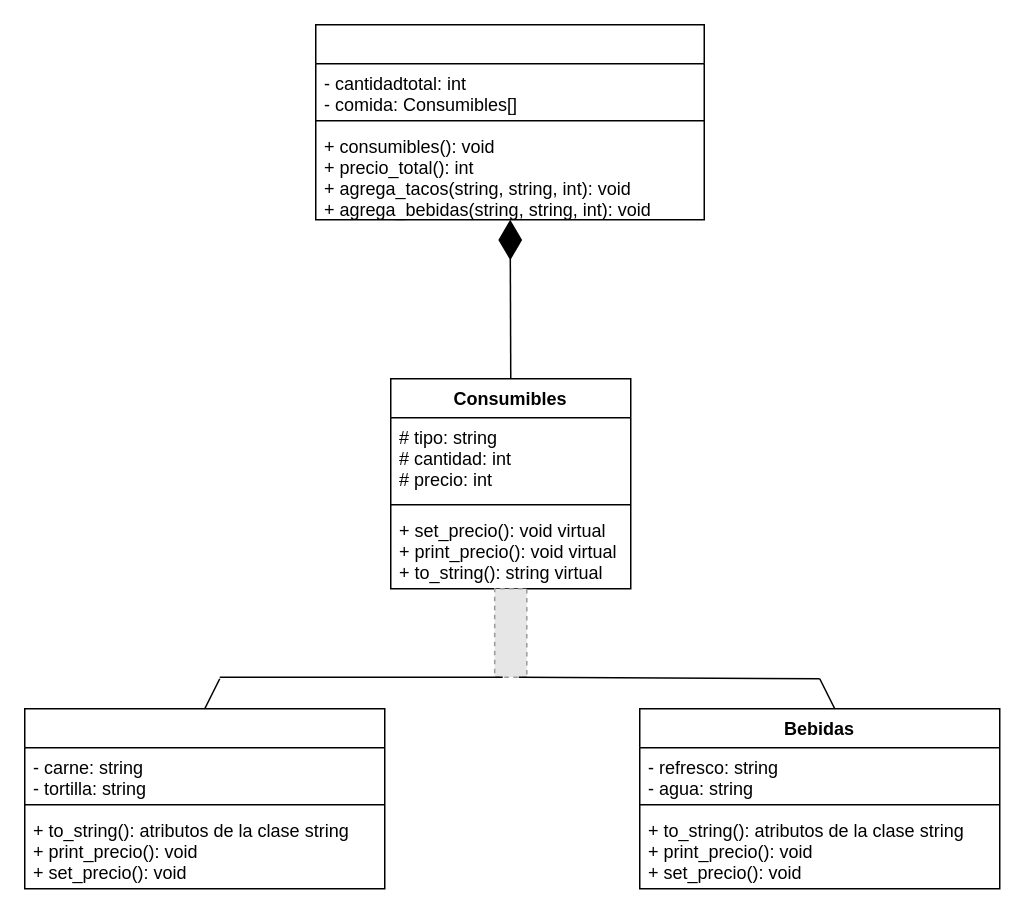
This 1025x914 diagram has some shape labels left out. Grey dashed boxes stand in for pictures. The shapes that lost their labels are listed below. From the top down, each one's box as (x1, y1, x2, y2) in pixels, then its label:
(314, 23, 704, 220): Cuenta
(23, 707, 385, 889): Tacos
